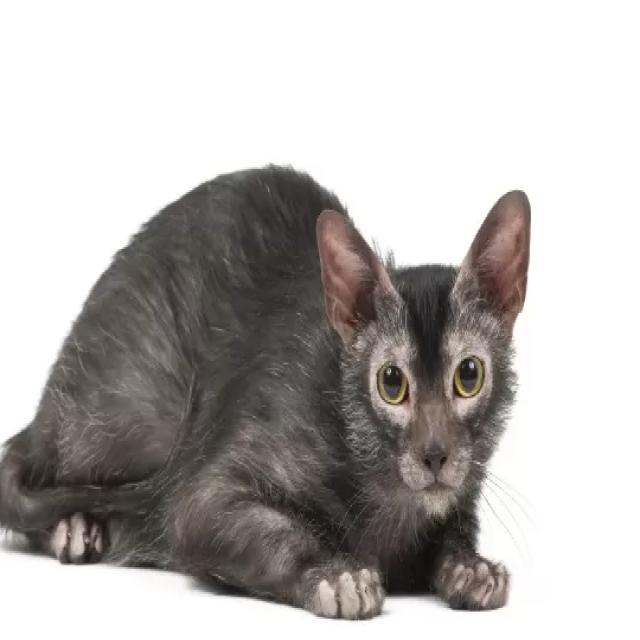Lykoi: (0, 148, 535, 622)
